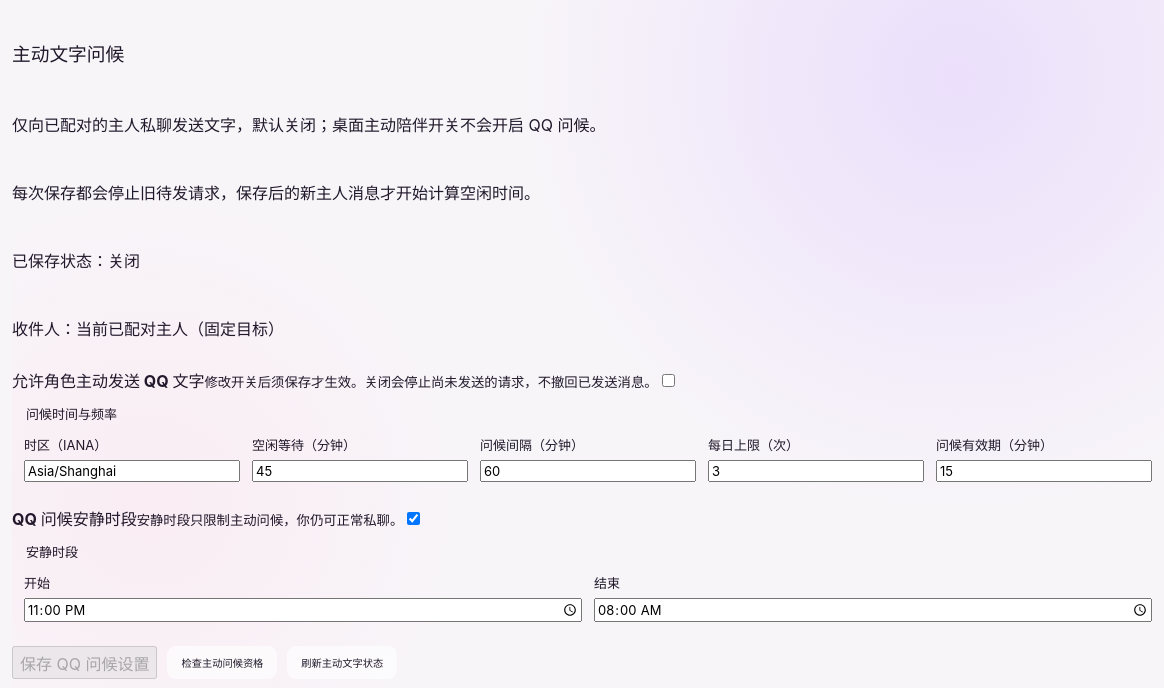
QQ proactive operator panel › rejects invalid draft QQ 问候时区 without a write
Expected: the switch labelled "允许角色主动发送 QQ 文字" is enabled, x1=662 y1=374 x2=675 y2=387
Replace the text in the field named "QQ 问候时区" with "Invalid/Timezone". click: (132, 471)
box: x1=24 y1=460 x2=240 y2=482
(page scrolled)
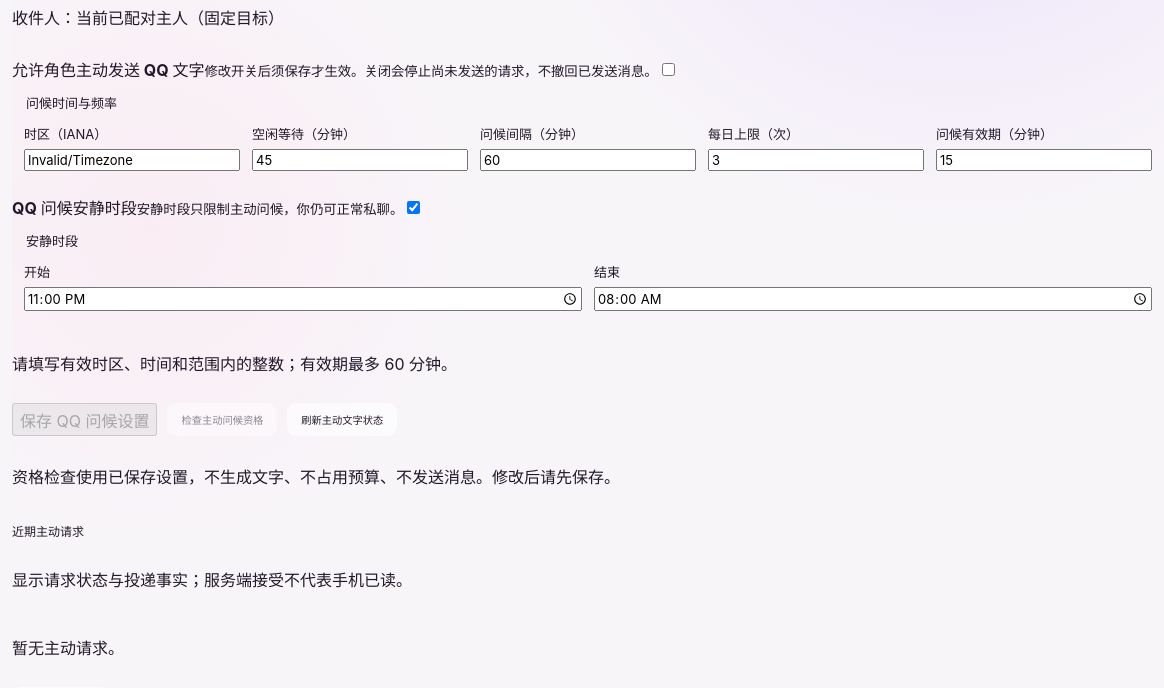
Expected: the button "保存 QQ 问候设置" is disabled, x1=12 y1=403 x2=158 y2=436
Now the button "检查主动问候资格" is disabled, box x1=168 y1=403 x2=277 y2=436
